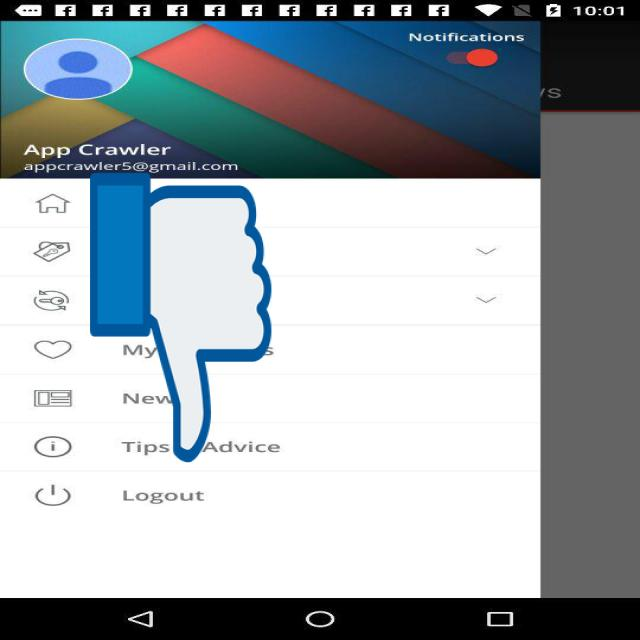obstruction: (90, 166, 271, 468)
